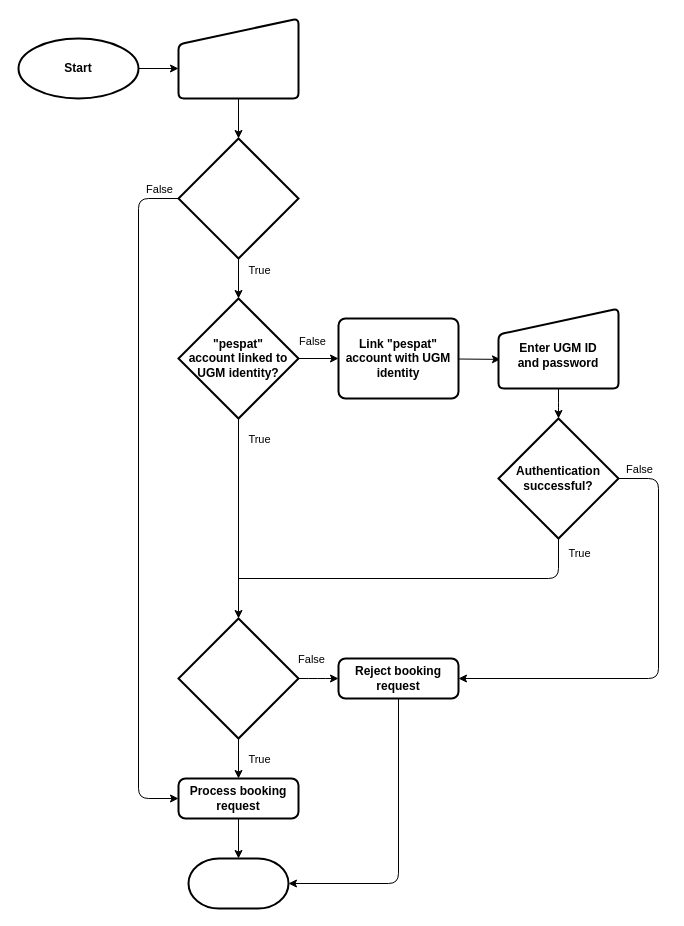
This 684x926 diagram has some shape labels left out. The shapes that lost their labels are listed below. From the top down, each one's box as (x1, y1, x2, y2) in pixels, then its label:
(177, 17, 299, 99): User selects a location to book
(177, 137, 299, 259): Location restricted to UGM students?
(177, 617, 299, 739): Does the user have the required attributes?
(187, 857, 289, 909): End
